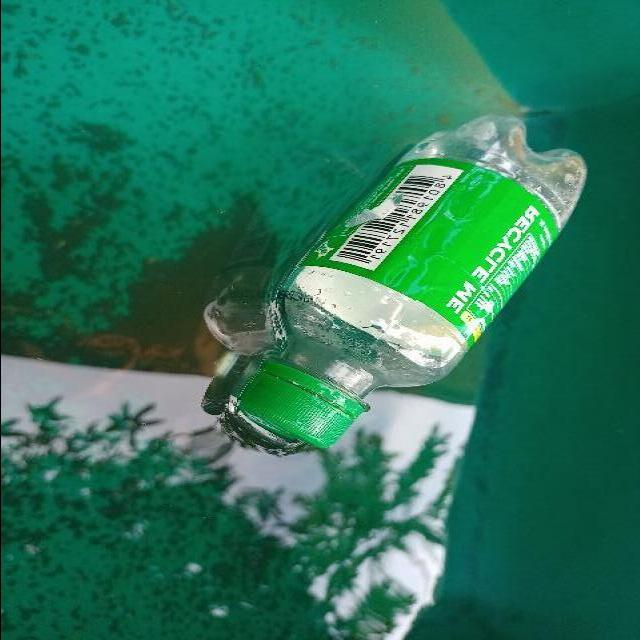Bottle: (221, 101, 590, 455)
